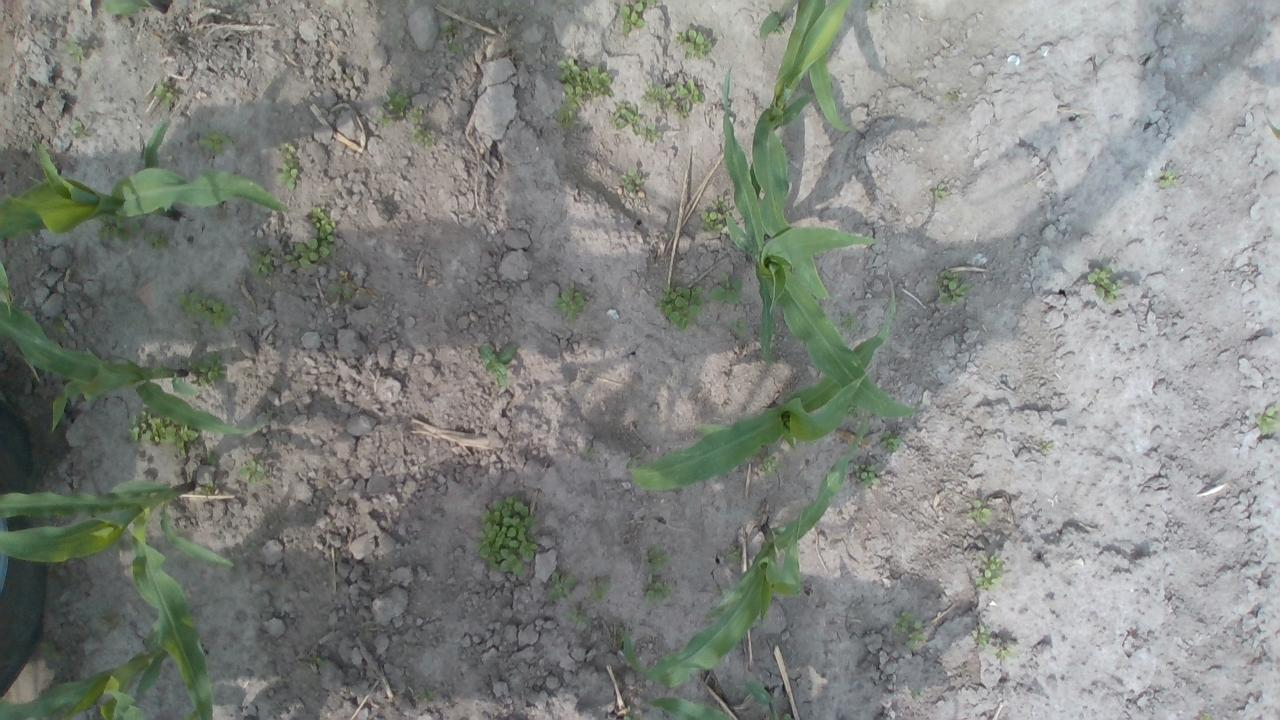Maize: (716, 67, 924, 428), (618, 415, 866, 691), (626, 270, 898, 492), (0, 479, 230, 720), (0, 258, 264, 438), (0, 117, 290, 240), (748, 0, 844, 303), (0, 625, 203, 720), (759, 0, 850, 136), (644, 681, 790, 720), (101, 0, 166, 17)
Weeds: (475, 491, 542, 577), (553, 59, 613, 130), (126, 409, 200, 456), (286, 207, 338, 269), (174, 284, 238, 332), (654, 283, 702, 330), (478, 341, 516, 385), (636, 544, 674, 584), (934, 268, 971, 308), (95, 212, 142, 243), (271, 141, 301, 189), (188, 349, 228, 385), (1088, 265, 1124, 303), (554, 280, 586, 322), (891, 610, 926, 648), (620, 0, 656, 36), (707, 272, 742, 307), (974, 552, 1004, 592), (674, 28, 710, 61), (640, 80, 677, 110), (608, 101, 640, 134), (237, 456, 271, 487), (247, 243, 277, 277), (586, 572, 620, 602), (196, 128, 232, 156), (380, 86, 410, 116), (1254, 404, 1280, 436), (674, 79, 706, 104), (962, 499, 991, 526), (546, 568, 572, 598), (142, 227, 170, 254), (152, 80, 178, 109), (851, 462, 880, 487), (39, 314, 69, 338), (94, 604, 118, 632), (700, 210, 730, 232), (969, 623, 992, 651), (643, 581, 668, 605), (759, 446, 780, 474), (64, 38, 88, 62), (722, 544, 745, 568), (878, 428, 901, 452), (620, 167, 642, 192), (992, 643, 1022, 660), (640, 120, 663, 142), (566, 606, 590, 626), (412, 126, 434, 147), (328, 280, 353, 298), (40, 640, 60, 662), (68, 120, 89, 140), (728, 319, 749, 337), (1158, 169, 1179, 187), (204, 447, 222, 466), (673, 103, 691, 121), (407, 106, 424, 125), (861, 0, 884, 14), (840, 314, 857, 332), (711, 194, 728, 212), (931, 182, 948, 200), (307, 652, 326, 668), (608, 628, 624, 644), (845, 402, 861, 417), (944, 90, 962, 102), (200, 479, 214, 494), (441, 22, 455, 36), (378, 115, 392, 128), (109, 539, 124, 551), (582, 446, 594, 460), (448, 40, 458, 55), (1038, 442, 1054, 451), (783, 389, 795, 400), (771, 25, 785, 34), (419, 691, 434, 699), (1198, 712, 1212, 720), (715, 585, 725, 595), (781, 713, 791, 720)
